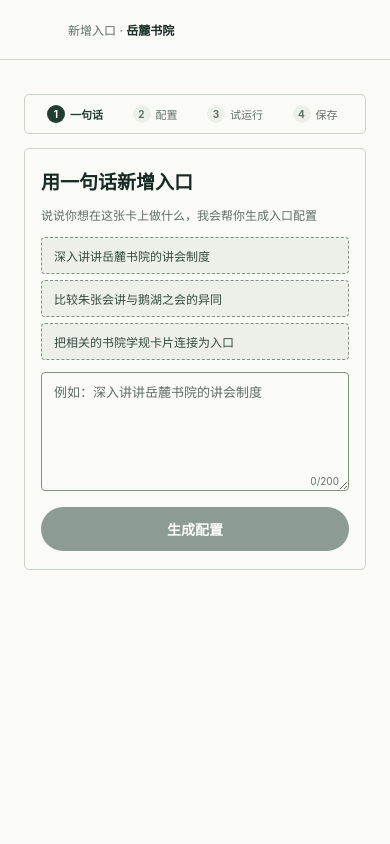
EntryCreateView(用一句话新增入口四步流,FR-N01–N05) › violations 红字渲染:草稿违规带进 Step2,保存端 400 清单逐条显示
The image size is (390, 844).
In the text box with placeholder "例如：深入讲讲岳麓书院的讲会制度": (195, 432) [41, 372, 349, 491], type "讲讲岳麓书院"
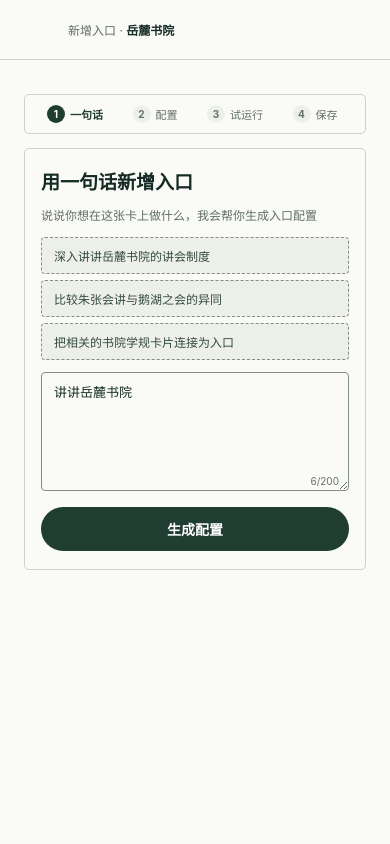
Click the button with test id "generate": (195, 529) [41, 507, 349, 551]
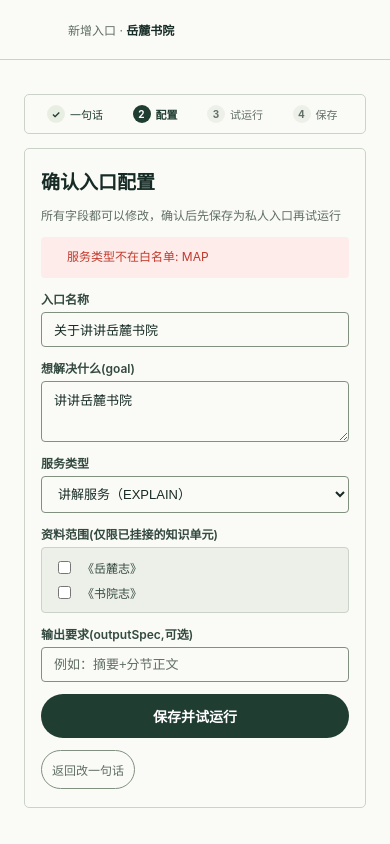
Check: the message "服务类型不在白名单: MAP" is shown, box [41, 237, 349, 278]
Check: the message with test id "violations" reads "服务类型不在白名单: MAP", box [67, 249, 209, 264]
# 客户端守卫:未选资料范围先拦,不打后端
Click the button with test id "save-and-test": (195, 716) [41, 694, 349, 738]
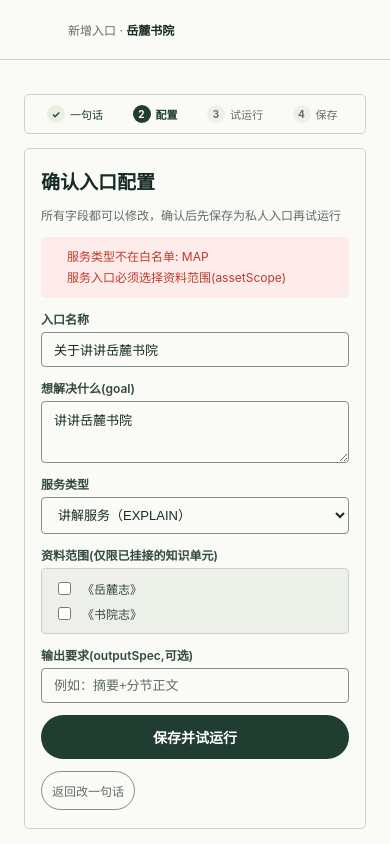
Check: the message with test id "violations" shows "服务入口必须选择资料范围", box [67, 270, 286, 285]
Click the checkbox labelled "《岳麓志》": (64, 588) [58, 582, 71, 595]
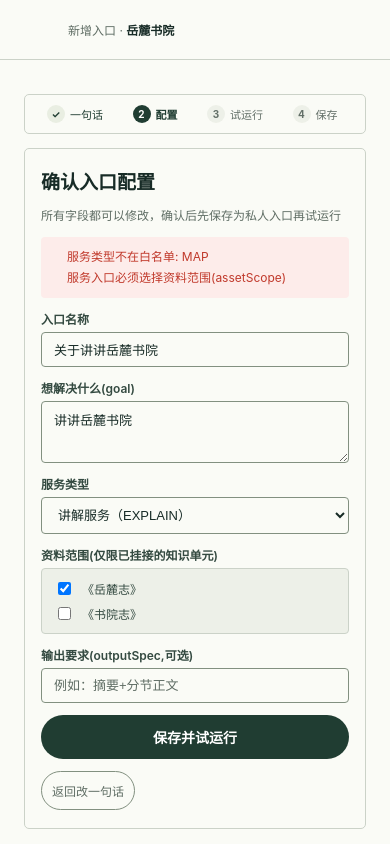
Click the button with test id "save-and-test": (195, 737) [41, 715, 349, 759]
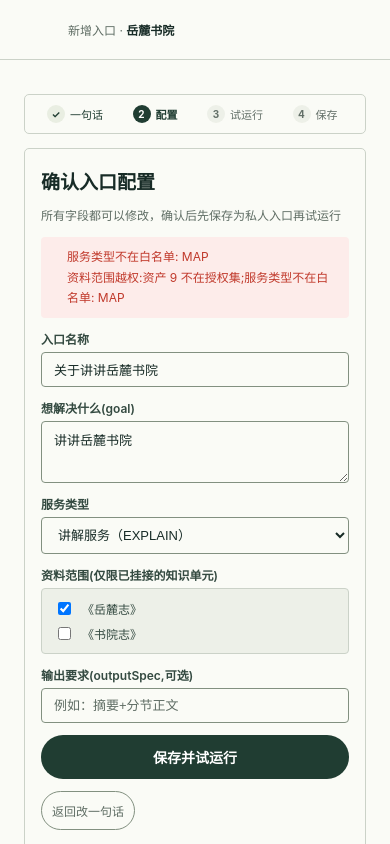
Check: the message with test id "violations" shows "服务类型不在白名单: MAP", box [67, 249, 209, 264]
Check: the message with test id "violations" shows "资料范围越权:资产 9 不在授权集", box [67, 270, 328, 305]
